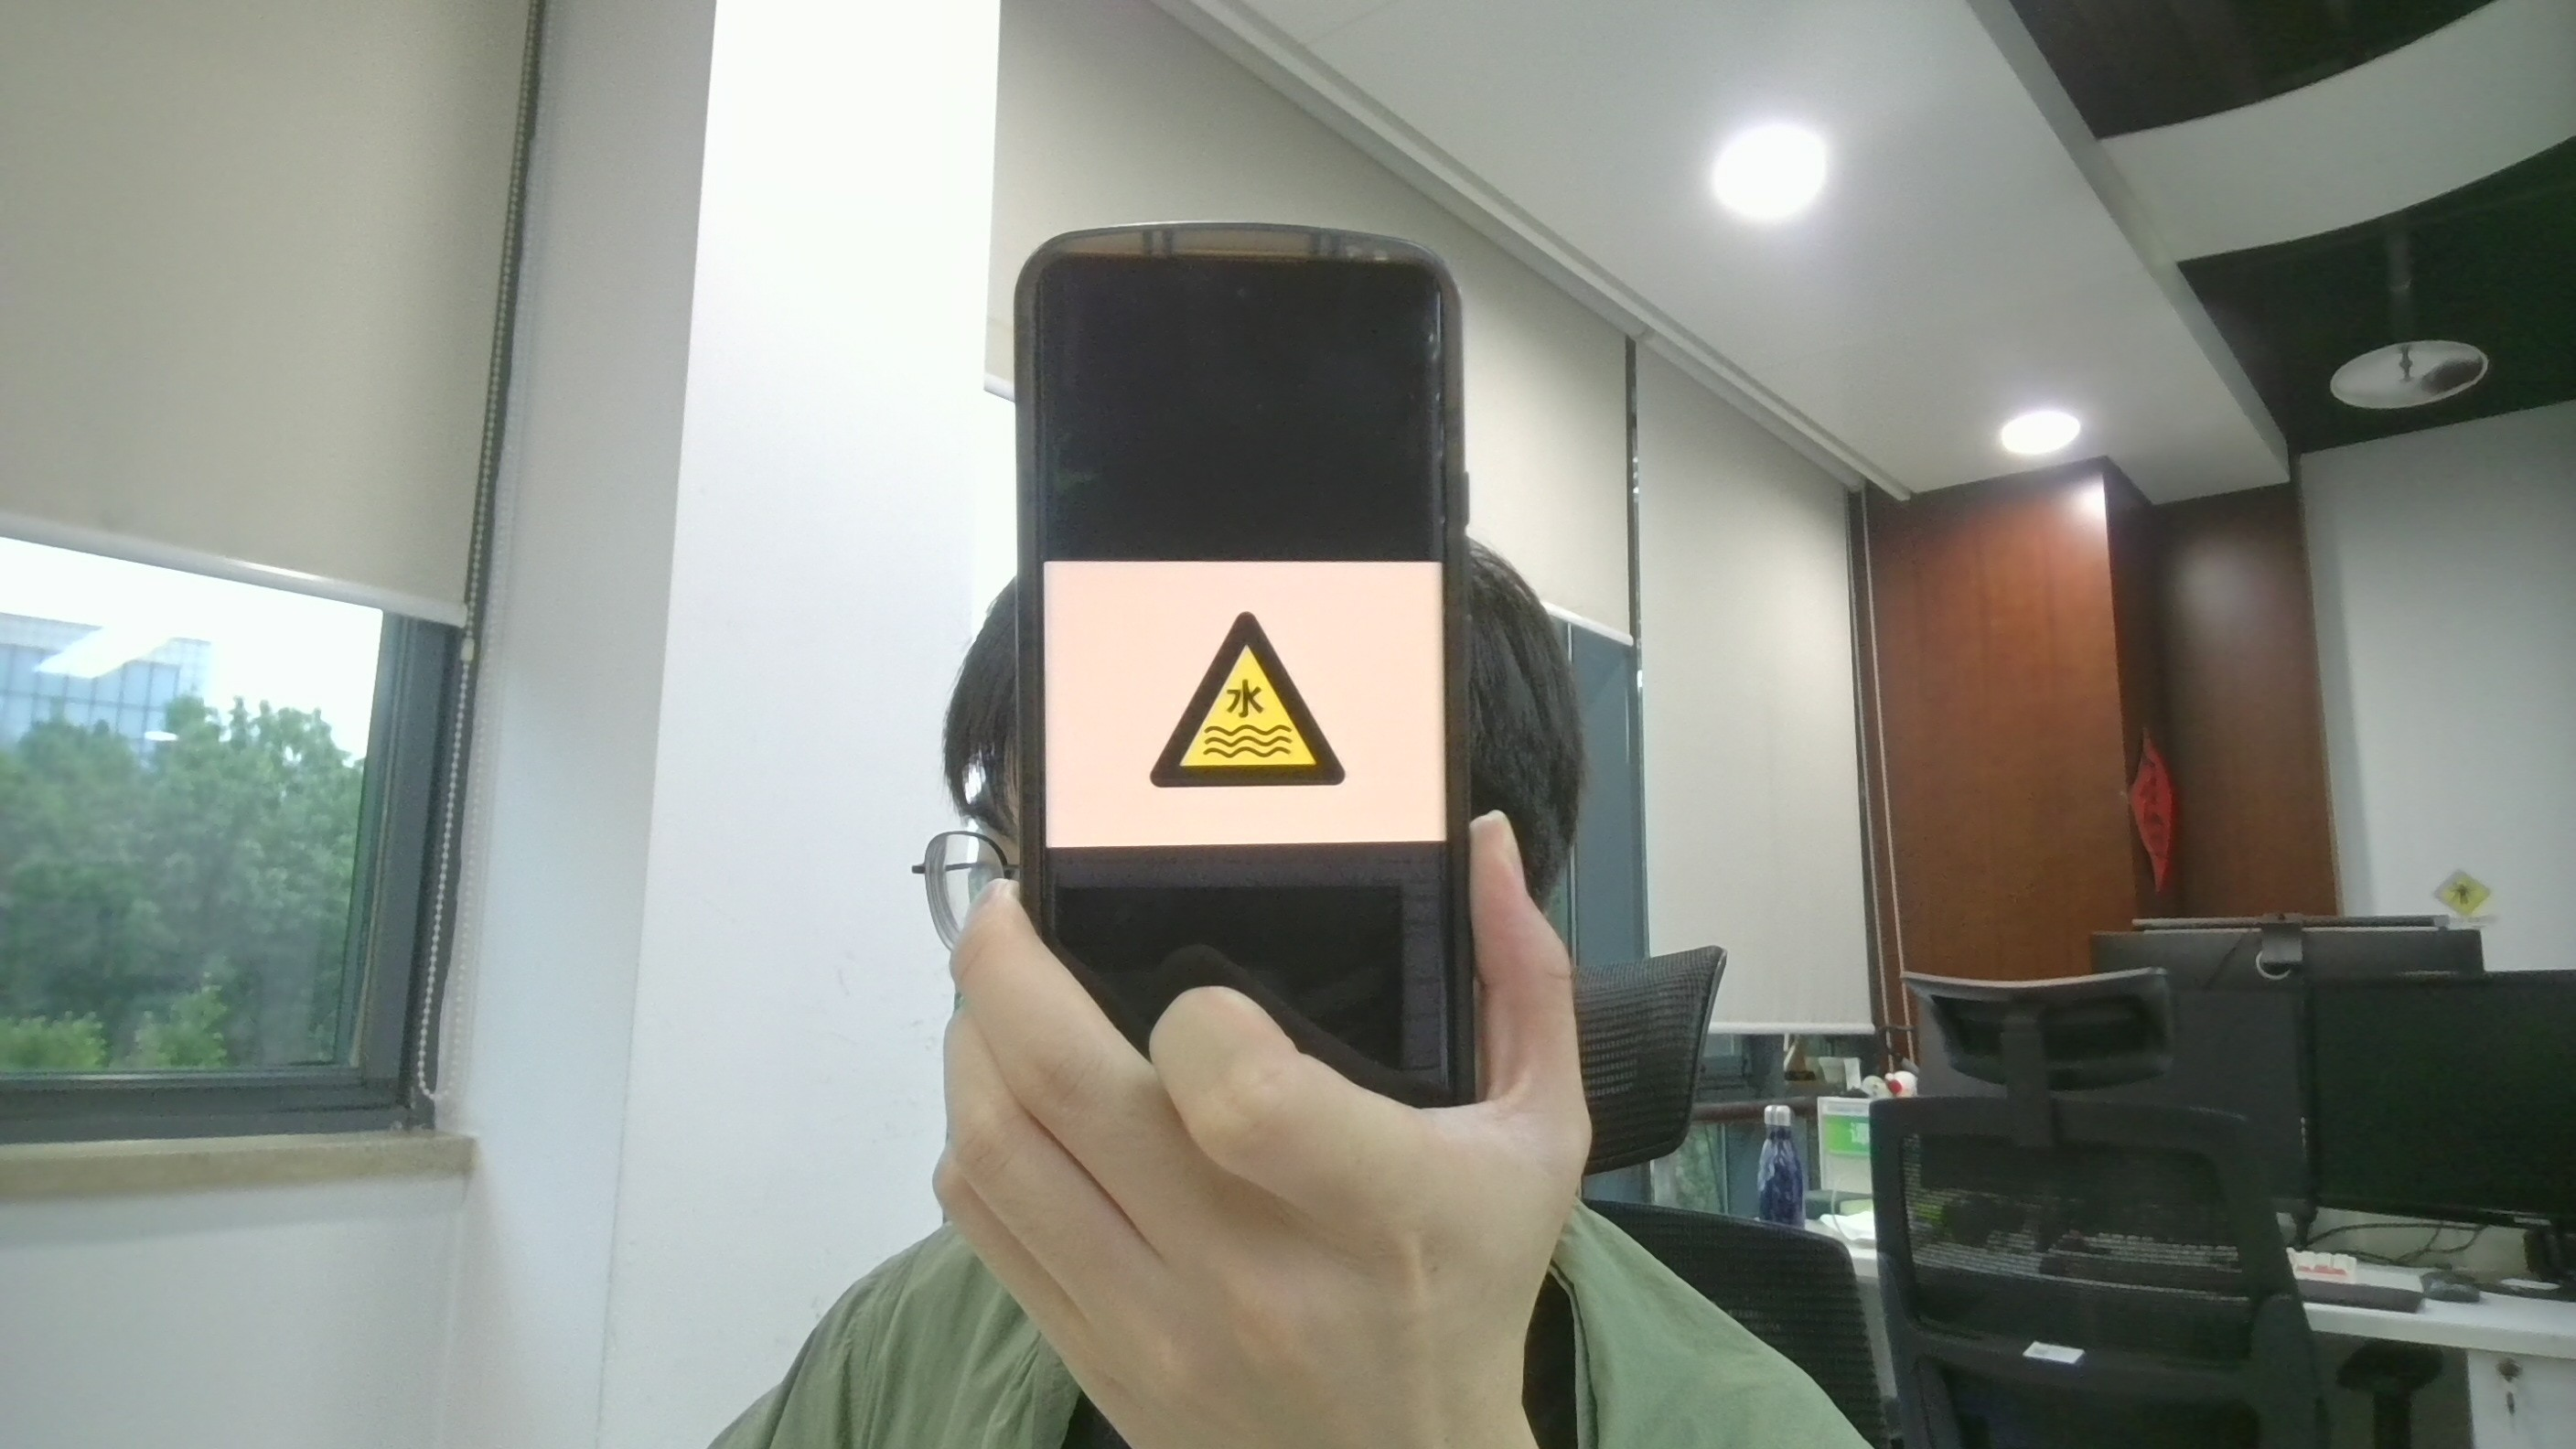shuizai: (1150, 603, 1350, 796)
